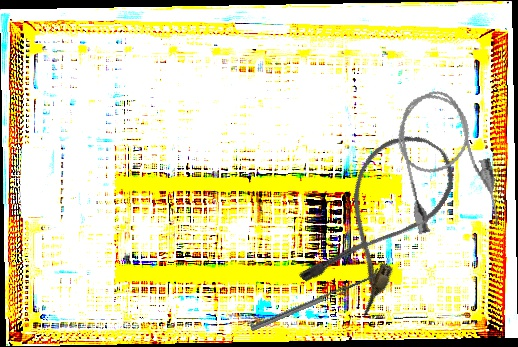Cannula: (292, 117, 469, 322), (386, 82, 506, 245)
Spatula Surgical: (247, 266, 382, 332)
